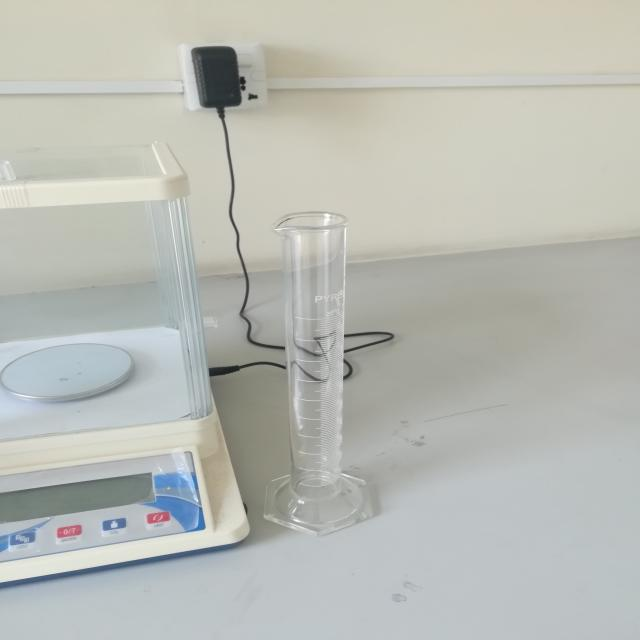Measuring_Cylinder: (248, 170, 412, 554)
